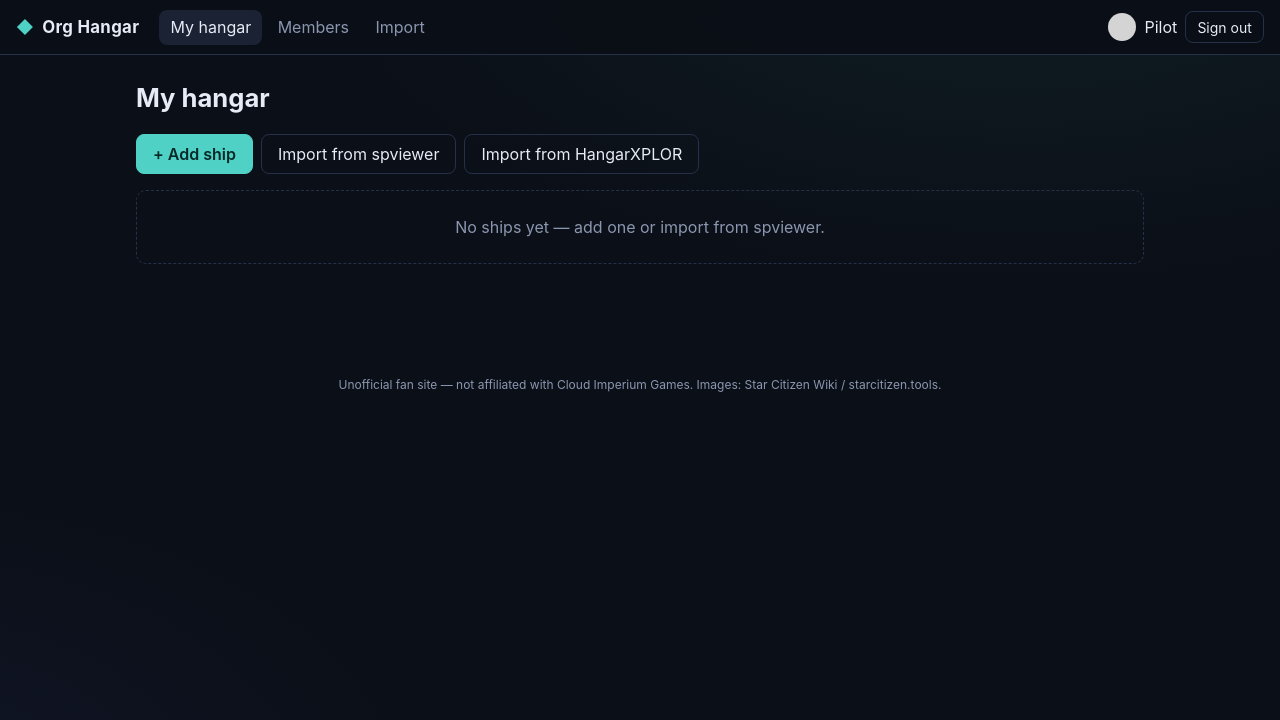
Test: AuthGate › reports a failed sign-out and stays signed in (no unhandled rejection)
The width and height of the screenshot is (1280, 720).
Click the button "Sign out" at (1225, 27), box [1185, 11, 1264, 43]
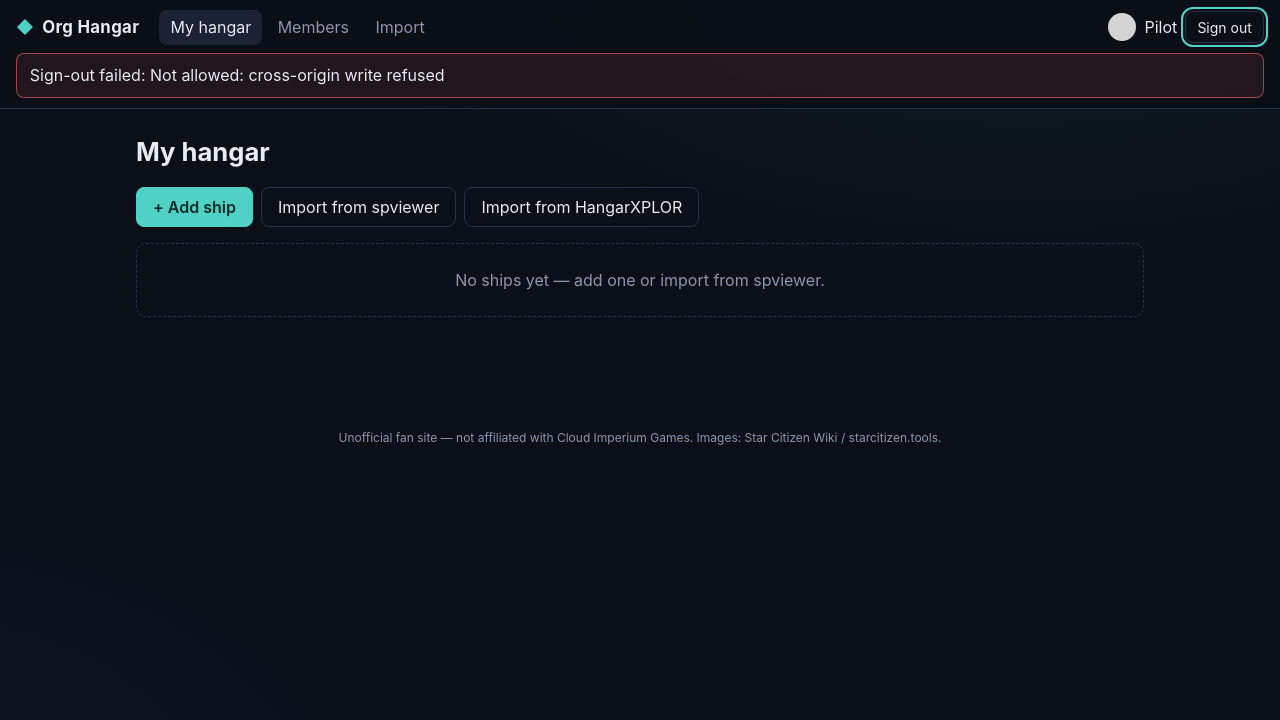
Expected: the message reads "Sign-out failed: Not allowed: cross-origin write refused", [30, 65, 445, 85]
